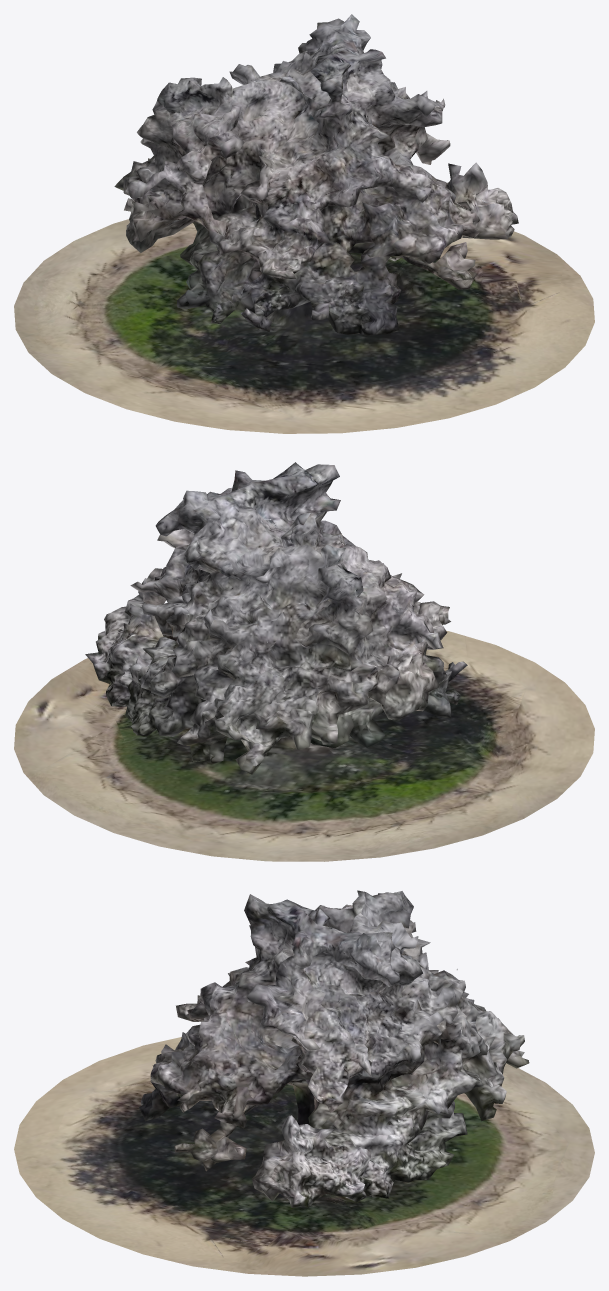
Rendered from ajimano-sakura.glb.
The picture shows the model from 3 angles, top to bottom: view 1: azimuth 30°, elevation 25°; view 2: azimuth 150°, elevation 25°; view 3: azimuth 270°, elevation 25°; orthographic projection.
Parts seen in each view (by area): view 1: baked_mesh; view 2: baked_mesh; view 3: baked_mesh.
Boxes of the visible parts, x1=… form: baked_mesh: x1=14, y1=14, x2=594, y2=433; baked_mesh: x1=14, y1=462, x2=594, y2=861; baked_mesh: x1=14, y1=890, x2=594, y2=1276.
Size of the model in its own units: 0.6479 by 0.3188 by 0.6429.
1 material, 1 textured.
